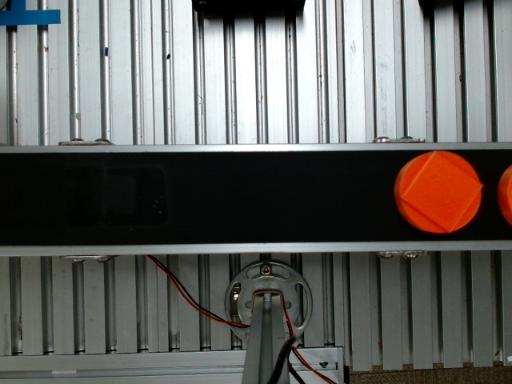Orange_Waper: (394, 150, 482, 233), (498, 166, 511, 225)
Square: (399, 150, 484, 233)
